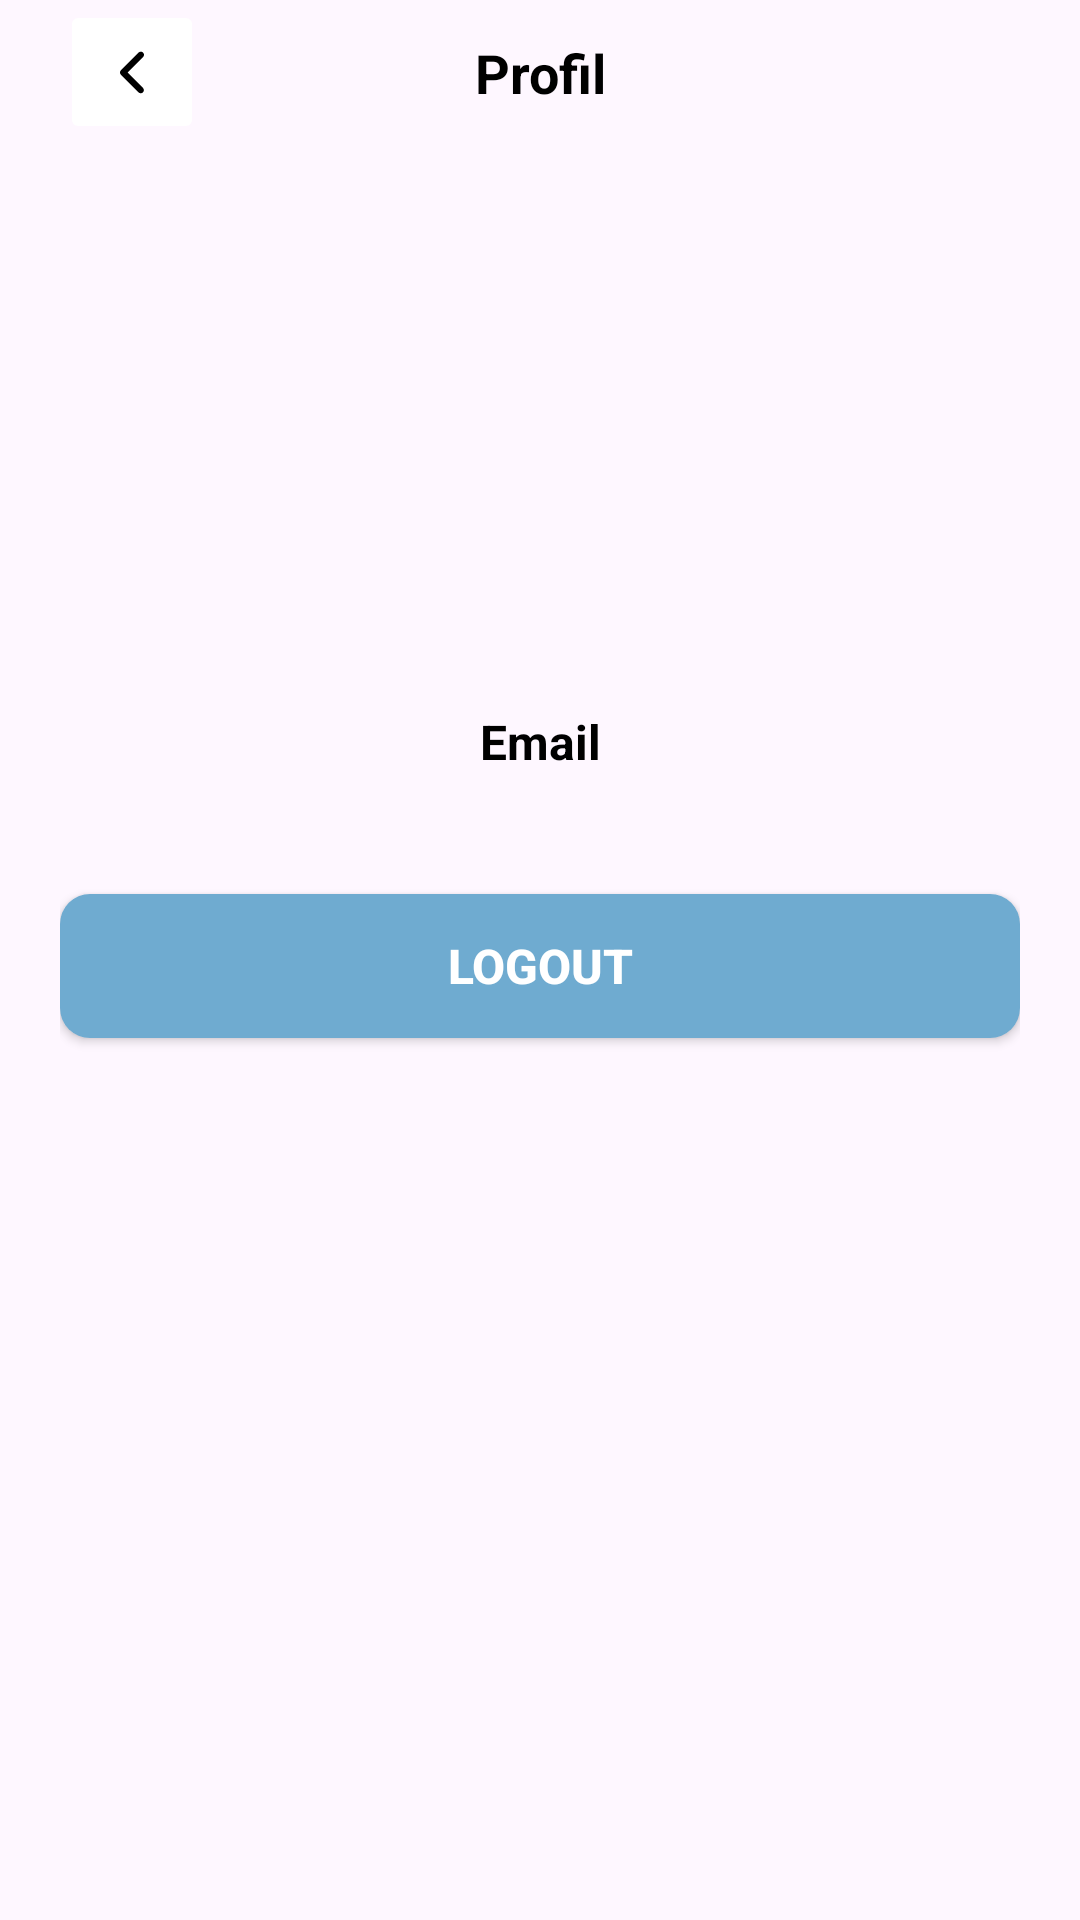

Screen size 1080*1920. Icon name, then its box in pixels as bbox=(x1, y1, x2, y2):
back: bbox=(120, 51, 144, 94)
